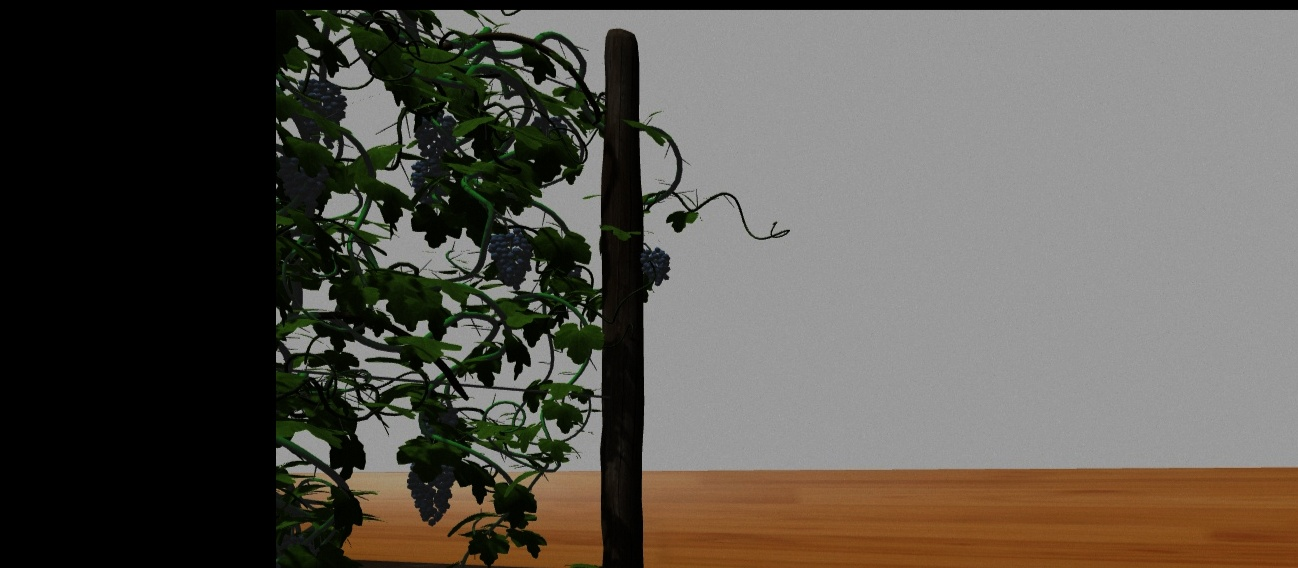grape: (276, 146, 330, 218), (404, 455, 454, 526), (290, 82, 346, 145), (486, 223, 532, 290), (408, 159, 452, 204), (413, 115, 456, 160), (638, 245, 671, 281)
